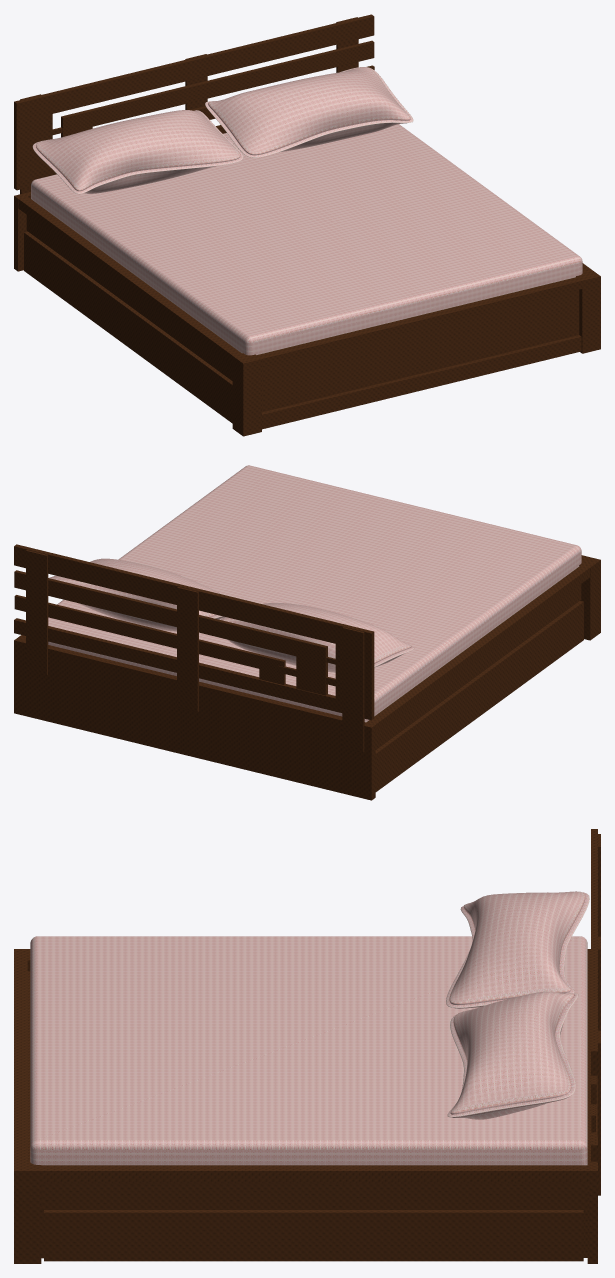
File: bed.obj
3 views of the same model, one above another, from view 1: azimuth 30°, elevation 25°; view 2: azimuth 150°, elevation 25°; view 3: azimuth 270°, elevation 25° (orthographic). The views are drawn at different scales.
Visible parts, largest first — view 1: ChamferBox001, Box005, Box034, Box033, Box020, Box013, Box022, Box004, Box001, Box007, Box014, Box002 (+2 smaller); view 2: ChamferBox001, Box008, Box020, Box013, Box022, Box007, Box025, Box014, Box033, Box026, Box028, Box027 (+2 smaller); view 3: ChamferBox001, Box012, Box011, Box034, Box033, Box009, Box001, Box003, Box020, Box008.
Boxes of the visible parts, x1,y1,x2,y2 form: ChamferBox001: (31,124,582,355); Box005: (262,290,579,412); Box034: (205,67,413,157); Box033: (32,110,243,194); Box020: (14,14,374,190); Box013: (24,231,232,423); Box022: (61,40,374,137); Box004: (262,335,581,429); Box001: (247,273,598,366); Box007: (18,196,241,364); Box014: (26,215,232,380); Box002: (232,353,261,436); ChamferBox001: (48,465,581,722); Box008: (14,637,375,800); Box020: (14,544,374,720); Box013: (375,601,583,791); Box022: (14,570,327,695); Box007: (366,565,589,733); Box025: (14,595,285,684); Box014: (375,584,581,749); Box033: (220,603,414,672); Box026: (342,627,364,752); Box028: (26,550,48,675); Box027: (177,586,198,712); ChamferBox001: (30,936,587,1165); Box012: (44,1210,583,1261); Box011: (41,1183,587,1210); Box034: (447,991,578,1119); Box033: (446,891,589,1008); Box009: (41,1165,587,1183); Box001: (14,954,27,1169); Box003: (14,1159,41,1263); Box020: (591,829,597,1161); Box008: (587,949,597,1263).
Size of the model in its own units: 7704 by 3436 by 8596.
Materials: 2 (2 with a texture image).
